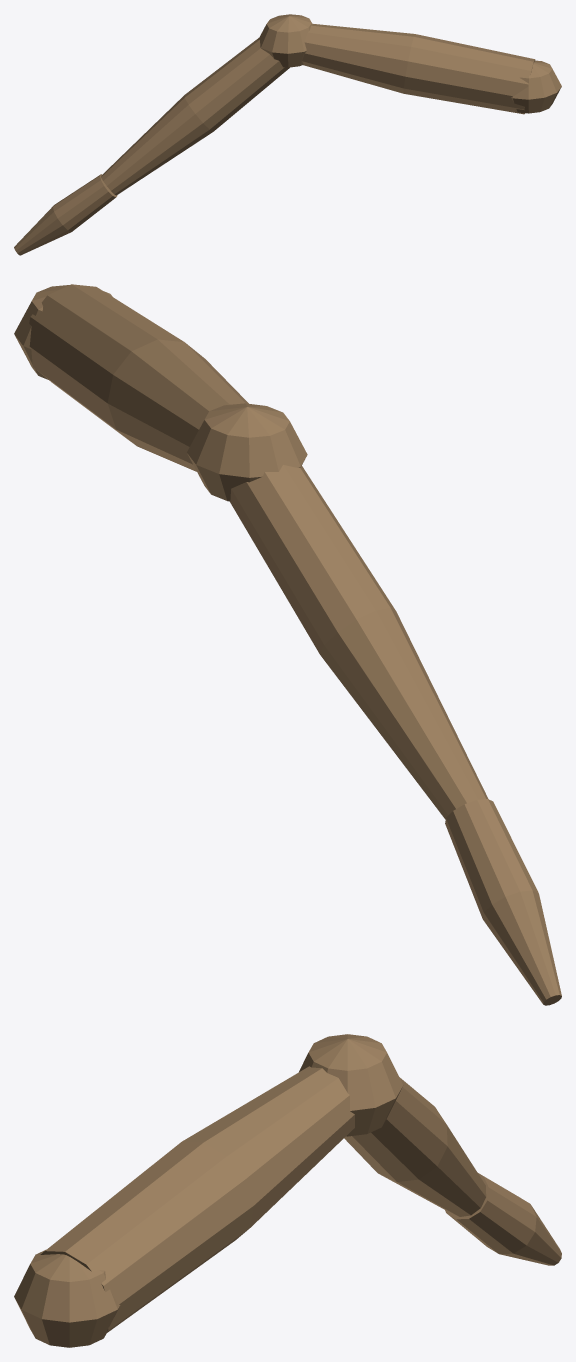
The model's file is scorpion_leg_l1_original_01.glb.
3 renders of one model, top to bottom at view 1: azimuth 30°, elevation 25°; view 2: azimuth 150°, elevation 25°; view 3: azimuth 270°, elevation 25°, orthographic. The views are drawn at different scales.
Visible parts, largest first — view 1: S0_LLeg1Segment1, S0_LLeg1Segment2, S0_LLeg1Segment3, S0_LLeg1Joint1, S0_LLeg1Joint0; view 2: S0_LLeg1Segment2, S0_LLeg1Segment1, S0_LLeg1Segment3, S0_LLeg1Joint1, S0_LLeg1Joint0; view 3: S0_LLeg1Segment1, S0_LLeg1Segment2, S0_LLeg1Joint0, S0_LLeg1Joint1, S0_LLeg1Segment3.
Part boxes in pixels (<box>): S0_LLeg1Segment1: <box>302,23,535,114</box>; S0_LLeg1Segment2: <box>101,38,289,195</box>; S0_LLeg1Segment3: <box>14,174,117,255</box>; S0_LLeg1Joint1: <box>258,14,312,67</box>; S0_LLeg1Joint0: <box>511,60,561,113</box>; S0_LLeg1Segment2: <box>229,465,488,819</box>; S0_LLeg1Segment1: <box>29,284,248,471</box>; S0_LLeg1Segment3: <box>445,799,561,1005</box>; S0_LLeg1Joint1: <box>187,403,307,501</box>; S0_LLeg1Joint0: <box>14,285,112,379</box>; S0_LLeg1Segment1: <box>40,1066,354,1332</box>; S0_LLeg1Segment2: <box>344,1077,486,1216</box>; S0_LLeg1Joint0: <box>14,1250,120,1347</box>; S0_LLeg1Joint1: <box>299,1034,403,1136</box>; S0_LLeg1Segment3: <box>445,1173,561,1265</box>.
Bounding box in the file's own units: 0.612 × 0.3185 × 0.3743.
